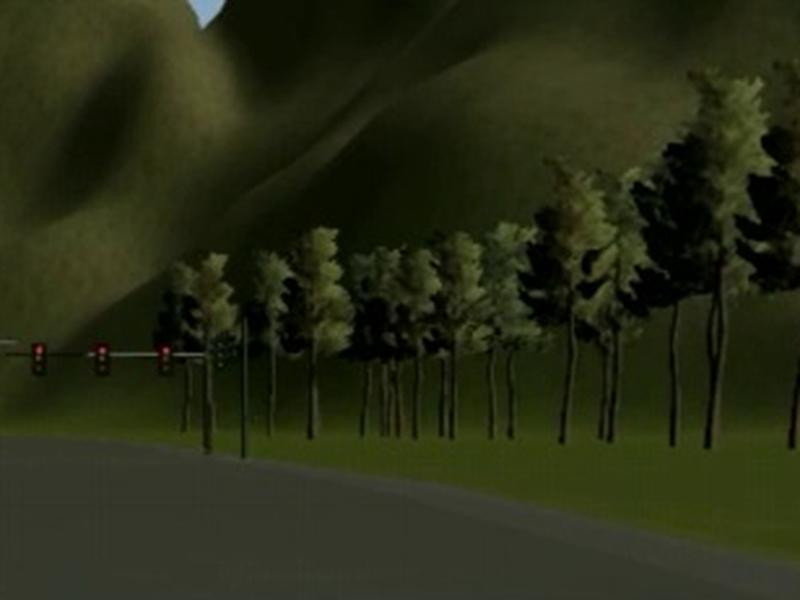Red: (156, 344, 175, 377), (31, 341, 46, 378), (93, 342, 109, 375)
